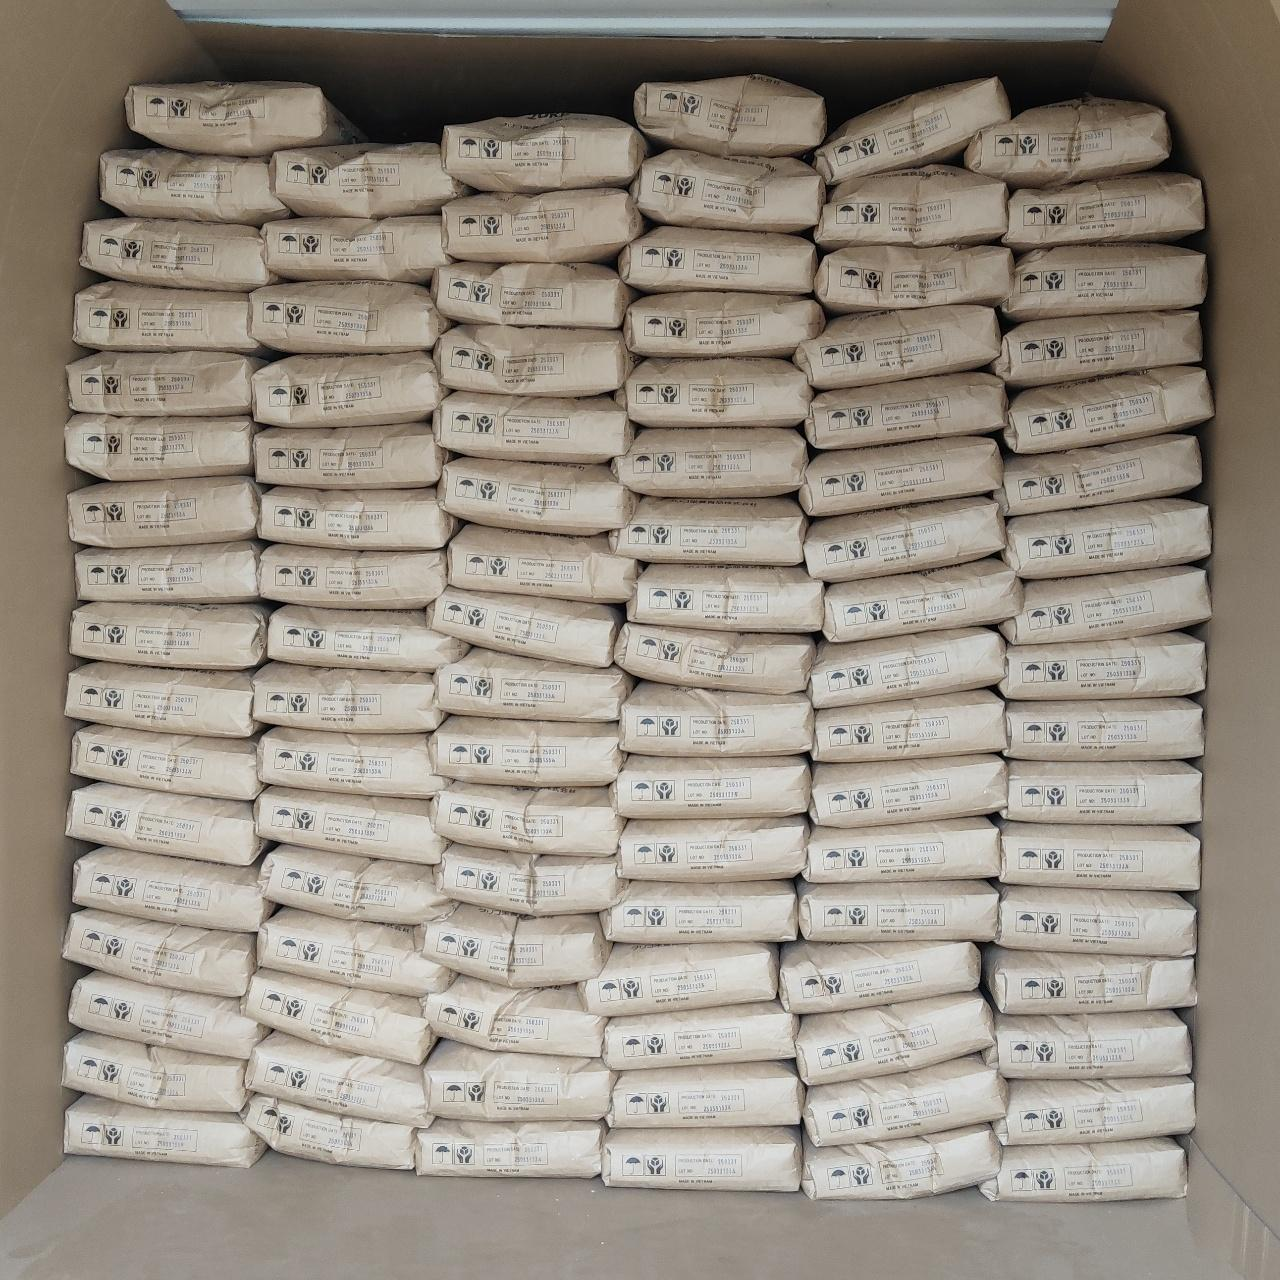sack: (816, 79, 1006, 182), (964, 96, 1167, 186), (798, 992, 990, 1082), (1005, 368, 1210, 452), (244, 971, 433, 1062), (248, 1032, 430, 1126), (806, 1056, 1005, 1142), (125, 82, 356, 154), (64, 910, 254, 996), (70, 972, 264, 1056), (806, 498, 1005, 580), (260, 908, 450, 994), (796, 306, 998, 386), (74, 847, 270, 930), (996, 436, 1198, 515), (822, 558, 1020, 638), (1005, 498, 1210, 574), (442, 114, 646, 190), (416, 904, 608, 983), (632, 150, 822, 230), (799, 438, 998, 515), (1006, 173, 1204, 250), (994, 312, 1198, 386), (68, 784, 263, 862), (636, 76, 824, 156), (816, 168, 1006, 246), (440, 458, 634, 535), (1002, 568, 1208, 640), (806, 372, 1005, 445), (260, 846, 450, 922), (424, 1042, 614, 1118), (1002, 246, 1204, 318), (442, 190, 640, 263), (64, 1032, 246, 1110), (428, 588, 620, 662), (810, 629, 1005, 702), (448, 526, 638, 600), (256, 788, 444, 862), (424, 976, 604, 1054), (983, 946, 1194, 1012), (804, 1126, 998, 1198), (433, 782, 622, 855), (992, 886, 1194, 954), (434, 392, 629, 462), (72, 726, 260, 798), (779, 942, 978, 1012), (272, 144, 467, 215), (436, 648, 629, 719), (82, 218, 275, 288), (580, 944, 774, 1014), (102, 148, 286, 222), (68, 662, 258, 734), (620, 682, 812, 753), (250, 282, 448, 350), (1000, 632, 1204, 697), (66, 1096, 263, 1164), (617, 624, 812, 692), (983, 1012, 1190, 1076), (1000, 822, 1198, 888), (254, 354, 445, 422), (813, 690, 1005, 758), (438, 844, 622, 914), (810, 756, 1006, 822), (436, 326, 632, 392), (618, 358, 810, 424), (74, 280, 256, 350), (612, 498, 806, 564), (254, 663, 442, 731), (628, 564, 822, 629), (620, 226, 813, 292), (614, 428, 806, 493), (430, 716, 622, 782), (72, 604, 266, 668), (270, 606, 464, 670), (260, 728, 444, 796), (610, 1062, 802, 1126), (434, 263, 629, 326), (996, 1078, 1192, 1142), (263, 216, 448, 282), (244, 1094, 414, 1166), (816, 246, 1010, 309), (624, 292, 822, 354), (980, 1138, 1184, 1198), (604, 1005, 796, 1068), (70, 478, 260, 542), (68, 414, 254, 478), (602, 1128, 798, 1189), (254, 424, 445, 486), (798, 880, 996, 940), (70, 352, 260, 414), (260, 488, 454, 549), (602, 881, 796, 942), (1002, 762, 1198, 822), (804, 818, 998, 878), (260, 544, 445, 606), (1006, 700, 1201, 758), (618, 818, 806, 878), (612, 756, 806, 813), (79, 542, 260, 602), (416, 1121, 602, 1175)
